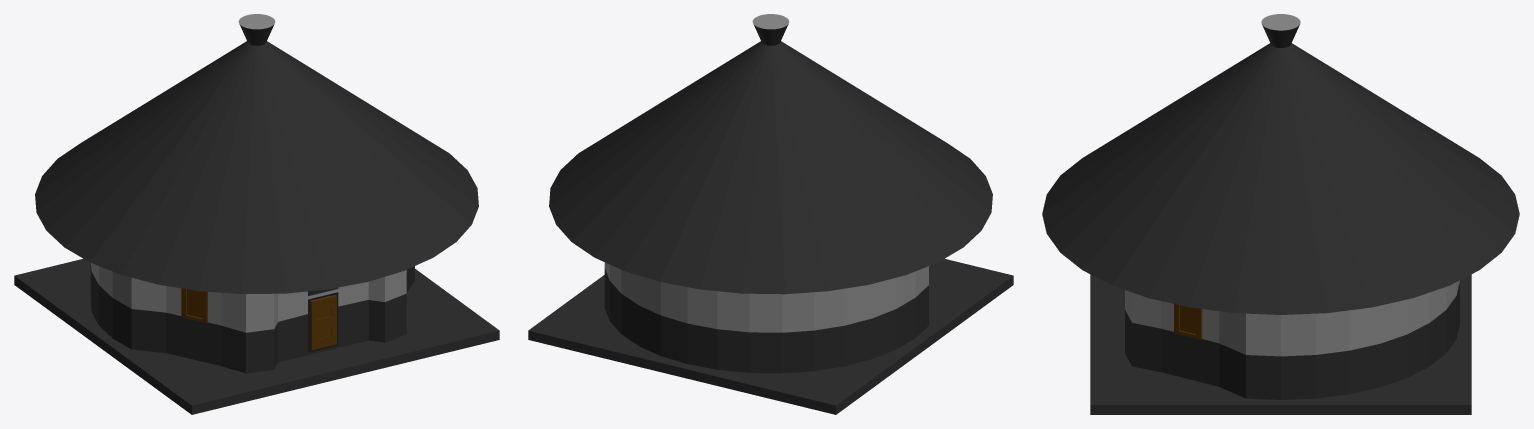
Rendered from Rumah adat kades.dae.
3 views of the same model, side by side, from view 1: azimuth 30°, elevation 25°; view 2: azimuth 150°, elevation 25°; view 3: azimuth 270°, elevation 25° (orthographic). The views are drawn at different scales.
Visible parts, largest first — view 1: 2. Rumah kades, 2. Lantai, 2. Pintu.001, 2. JendelaRight.002; view 2: 2. Rumah kades, 2. Lantai; view 3: 2. Rumah kades, 2. Lantai, 2. JendelaRight.001.
Boxes of the visible parts, box(x1,y1,x2,y2) form: 2. Rumah kades: box(35, 14, 478, 373); 2. Lantai: box(14, 258, 499, 414); 2. Pintu.001: box(310, 295, 336, 350); 2. JendelaRight.002: box(181, 288, 207, 323); 2. Rumah kades: box(549, 14, 992, 373); 2. Lantai: box(528, 258, 1013, 414); 2. Rumah kades: box(1042, 14, 1519, 399); 2. Lantai: box(1090, 274, 1471, 414); 2. JendelaRight.001: box(1174, 304, 1202, 339).
Bounding box in the file's own units: 41.04 × 41.04 × 29.58.
